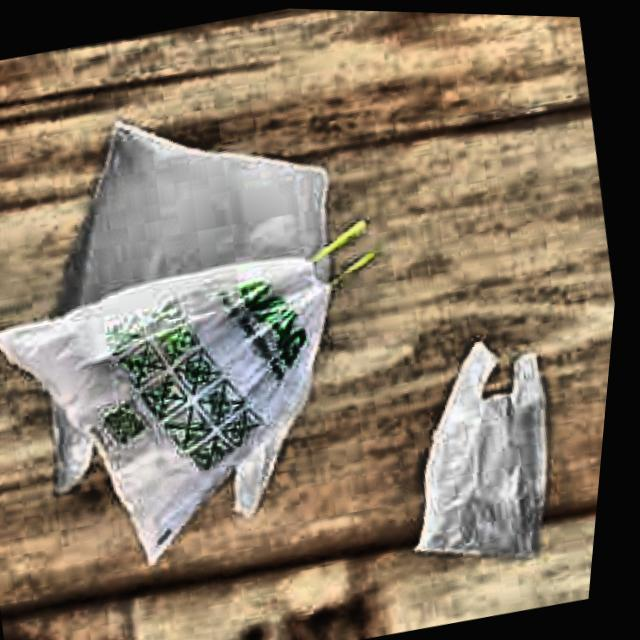Plastic: (0, 60, 403, 571), (0, 187, 449, 597), (369, 274, 608, 593)
